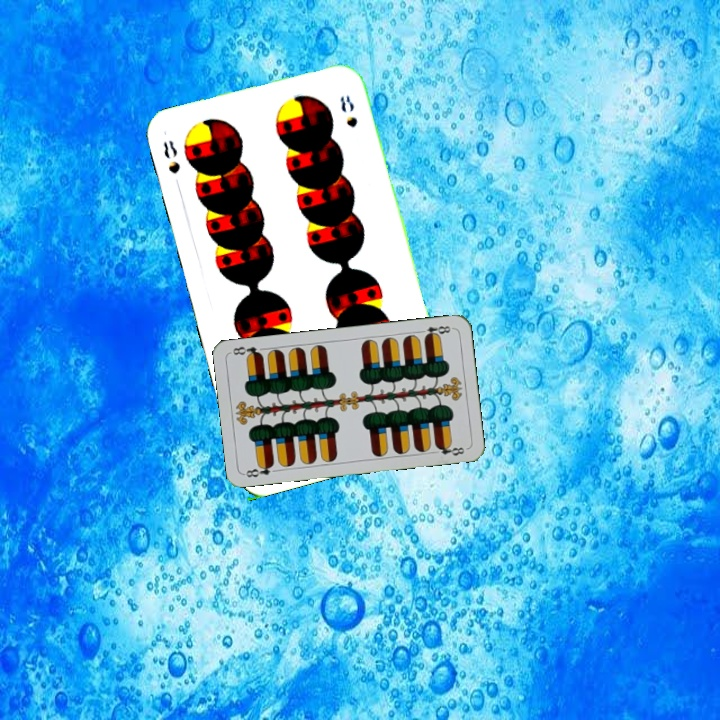E8: (415, 322, 455, 341), (242, 459, 276, 480)
S8: (159, 136, 183, 177)
